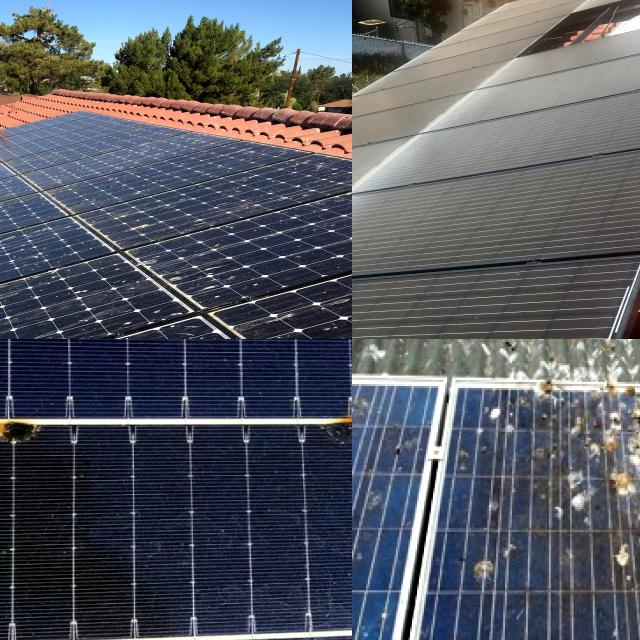bird: (559, 384, 640, 509), (466, 530, 540, 594), (470, 396, 525, 444), (599, 521, 640, 584), (390, 431, 418, 474), (352, 385, 379, 426), (352, 574, 373, 619)
dust: (277, 250, 352, 339), (0, 206, 34, 308)
shadow: (0, 404, 89, 465), (294, 390, 352, 466)
